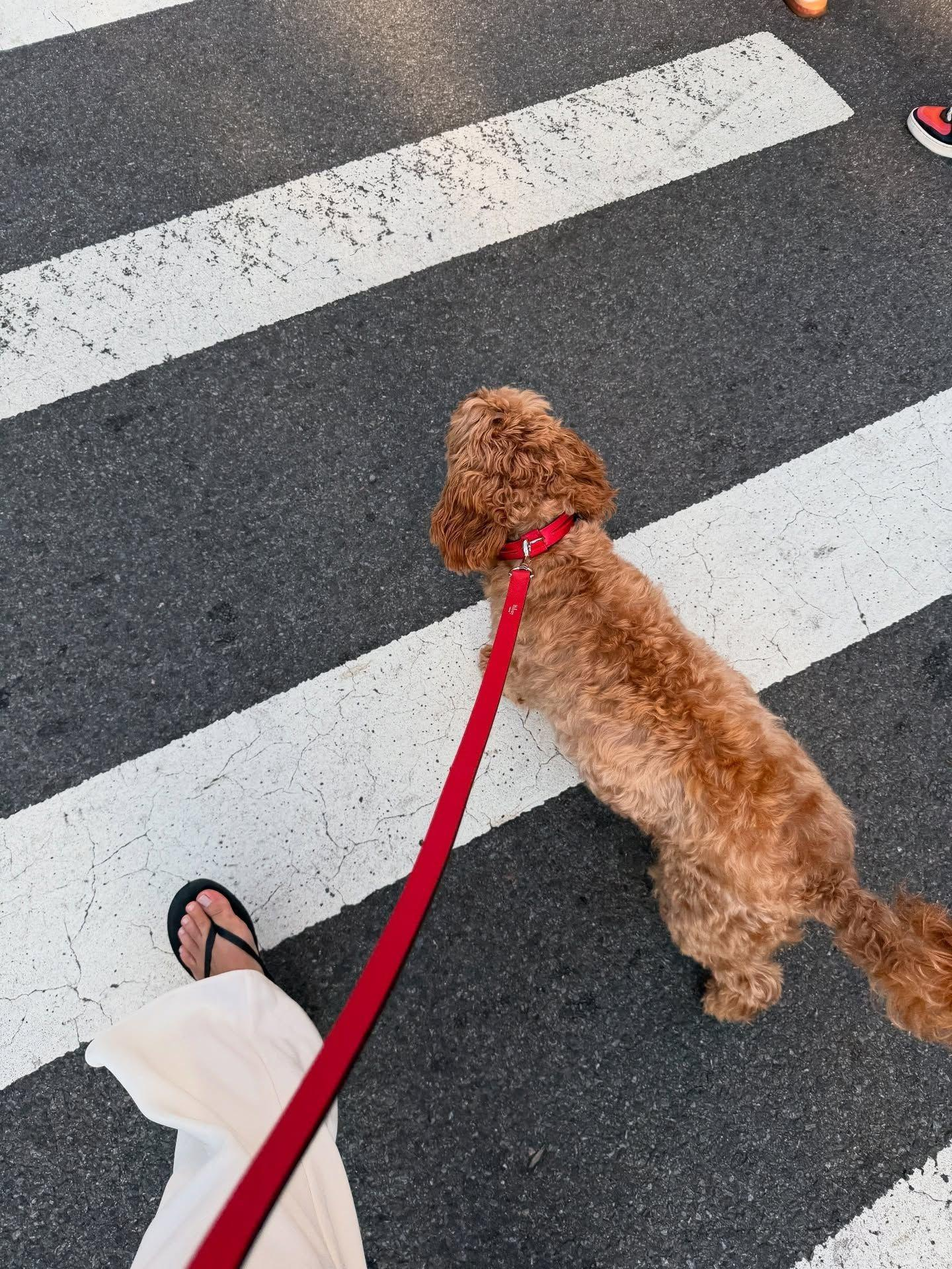adult_dog: (428, 386, 952, 1049)
